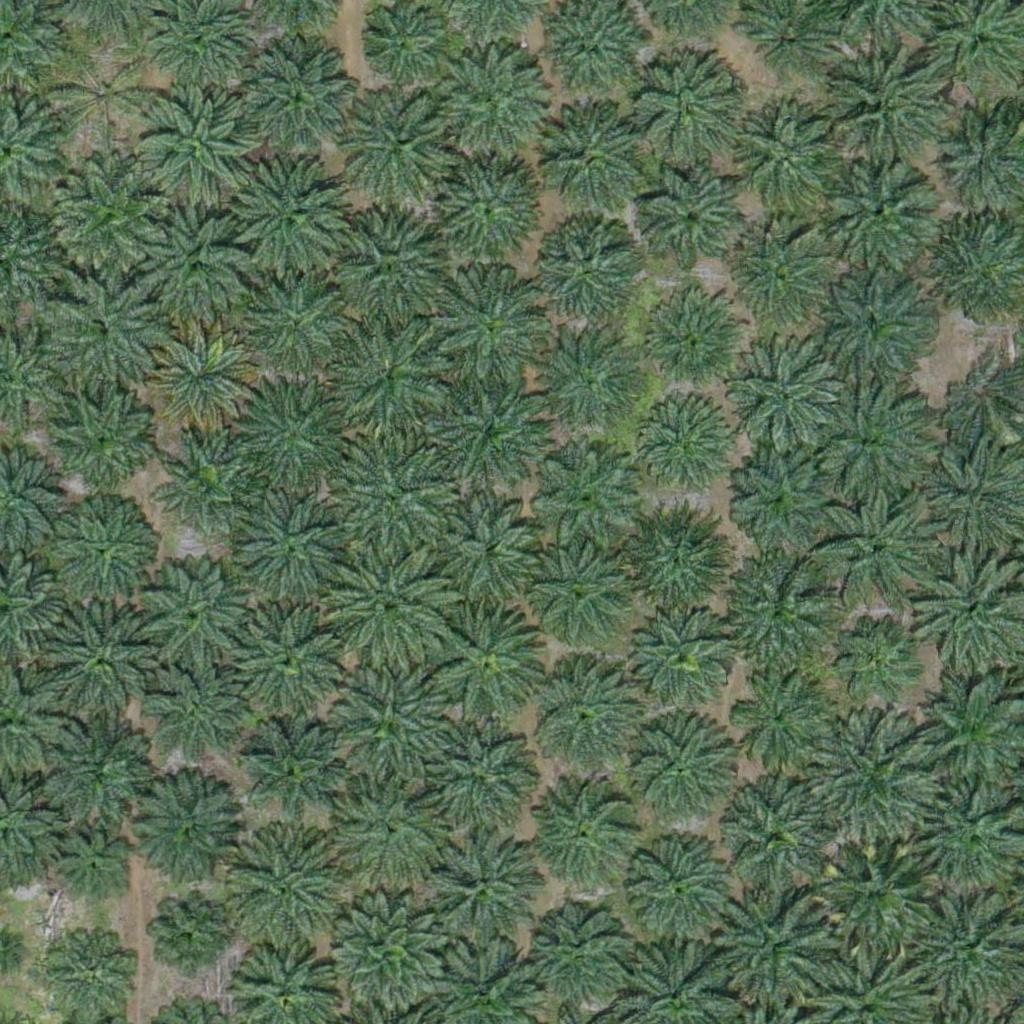Kelapa_Sawit: (810, 826, 935, 952), (810, 712, 935, 838), (713, 785, 838, 911), (804, 382, 929, 508), (814, 478, 939, 604), (326, 317, 451, 443), (332, 436, 457, 562), (814, 43, 939, 168), (326, 539, 451, 664), (437, 154, 550, 268), (343, 88, 456, 202), (429, 269, 542, 383), (242, 41, 355, 155), (525, 658, 638, 771), (434, 608, 547, 721), (424, 713, 537, 826), (421, 831, 534, 944), (127, 777, 240, 890), (45, 605, 158, 718), (31, 706, 144, 819), (731, 108, 844, 221), (629, 59, 742, 172), (817, 263, 930, 376), (726, 339, 839, 452), (520, 535, 633, 648), (434, 494, 547, 607), (436, 375, 549, 488), (329, 213, 442, 326), (230, 158, 343, 271), (51, 159, 164, 272), (145, 324, 258, 437), (142, 557, 255, 670), (47, 277, 160, 390), (43, 382, 156, 495), (715, 549, 827, 663), (620, 500, 732, 614), (526, 436, 638, 550), (720, 890, 832, 1003), (627, 821, 739, 934), (623, 708, 735, 821), (333, 662, 445, 775), (331, 771, 443, 884), (329, 890, 441, 1003), (227, 827, 339, 940), (827, 159, 939, 272), (532, 106, 644, 219), (435, 45, 547, 158), (242, 268, 354, 381), (232, 377, 344, 490), (232, 488, 344, 601), (231, 600, 343, 713), (138, 208, 250, 321), (139, 86, 251, 199), (54, 46, 154, 147), (538, 777, 638, 878), (529, 901, 629, 1002), (241, 724, 341, 825), (731, 225, 831, 326), (639, 165, 739, 266), (53, 502, 153, 603), (729, 666, 829, 766), (632, 607, 732, 707), (534, 219, 634, 319), (734, 447, 834, 547), (639, 291, 739, 391), (635, 398, 735, 498), (540, 330, 640, 430), (45, 927, 133, 1015), (163, 439, 250, 528), (150, 671, 237, 759), (153, 897, 228, 973), (836, 616, 911, 692), (51, 830, 126, 906), (362, 7, 437, 83), (947, 357, 1022, 432)
